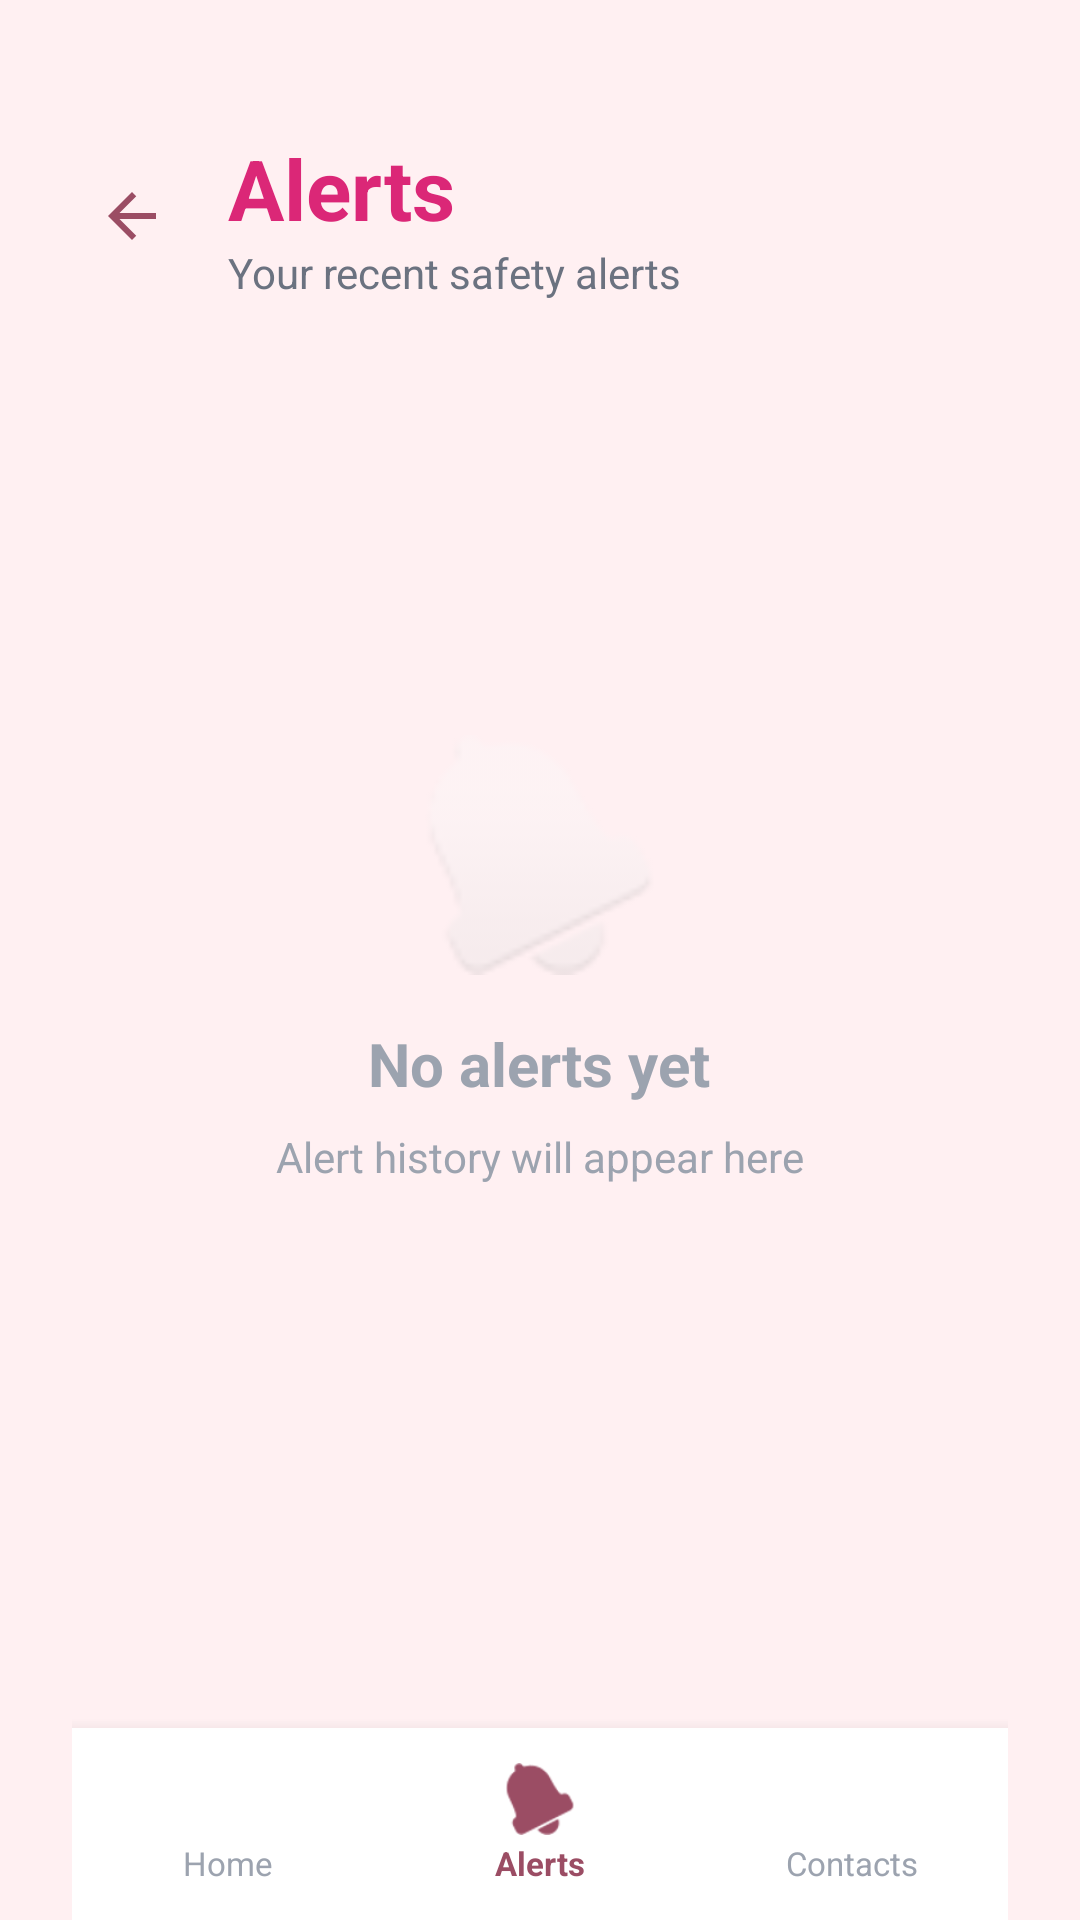

Icon bounding boxes for this 1080*1920 phone screenshot, format (x1, y1, x2, y2):
arrow back: (108, 192, 156, 240)
popup reminder: (506, 1763, 574, 1835)
